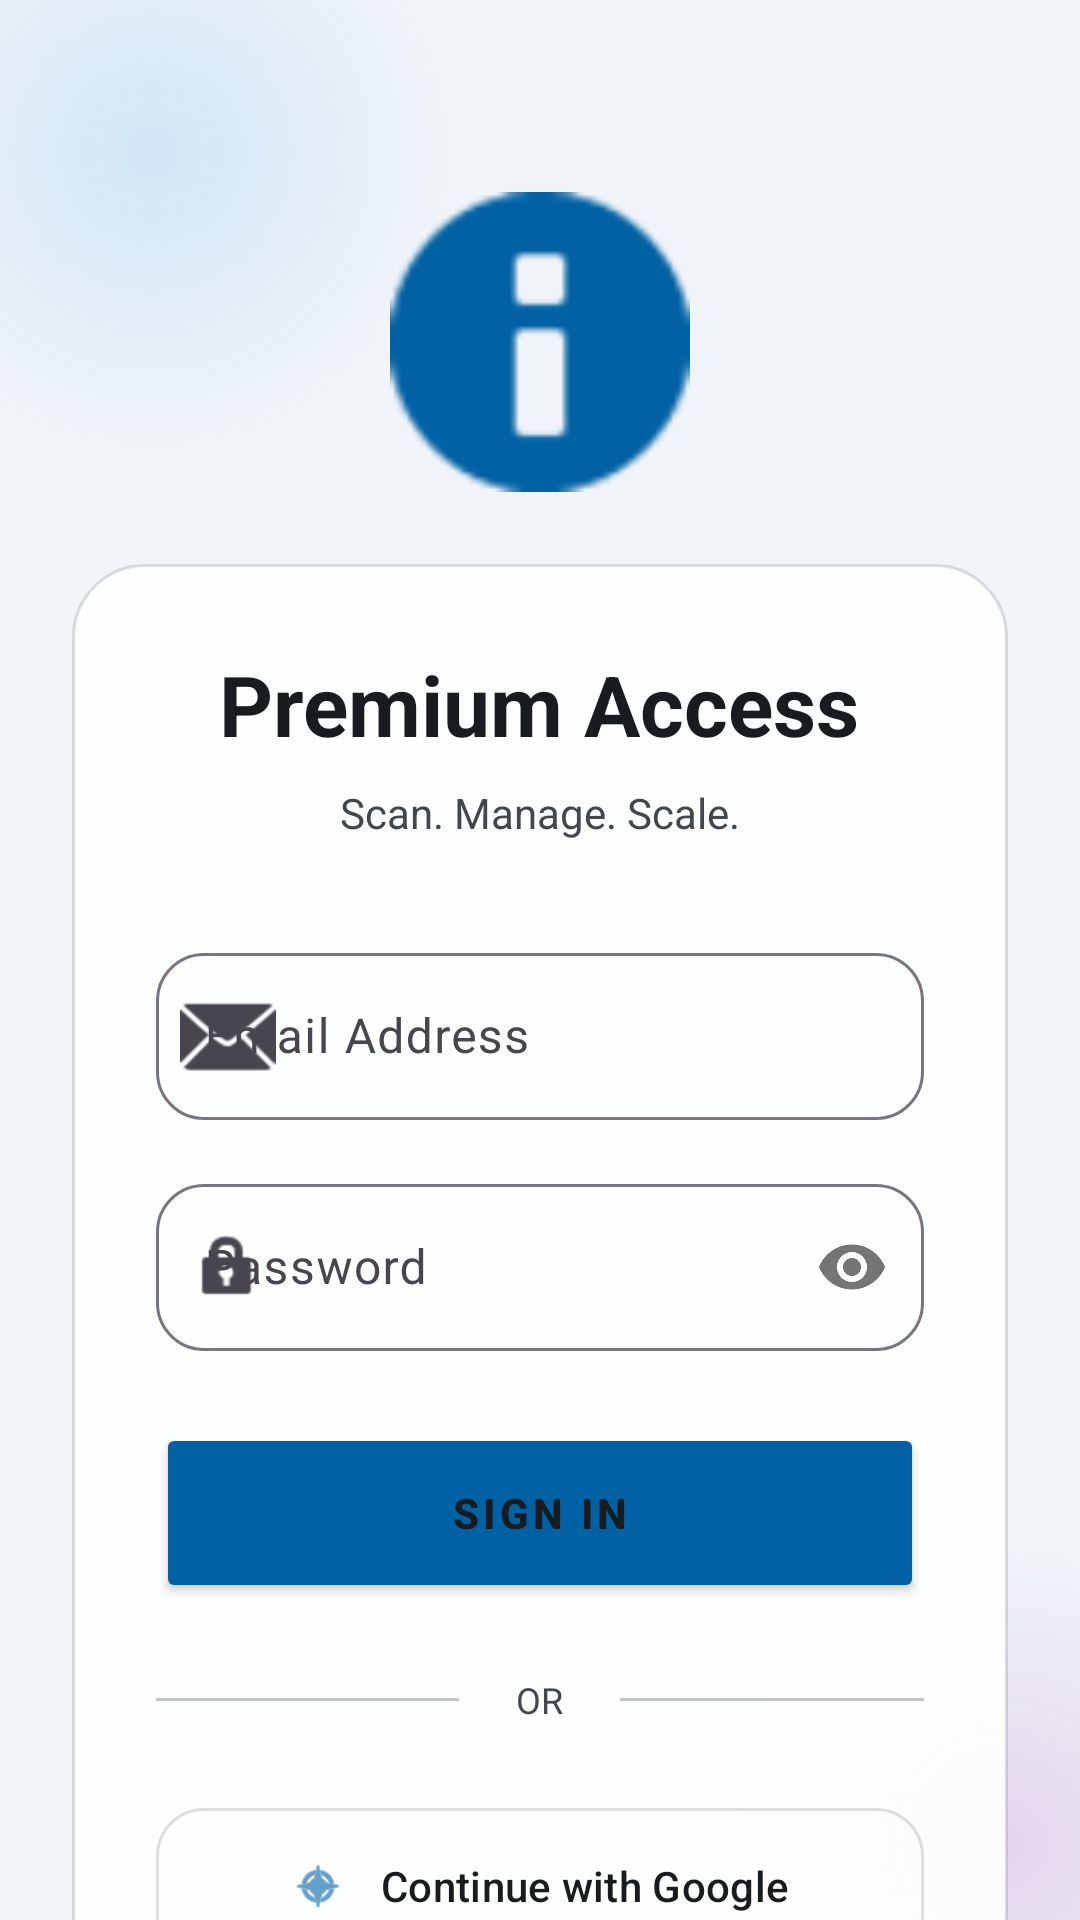

Where icons sit on this 1080×1920 app screen, as BBox(x1, y1, x2, y2):
info: BBox(390, 192, 690, 492)
